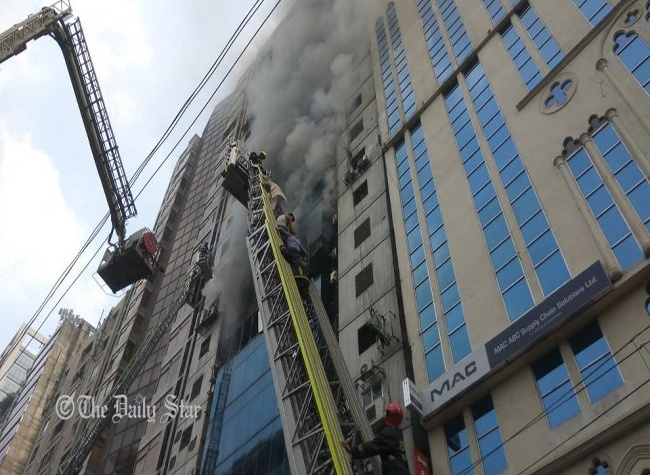Smoke: (245, 61, 339, 153), (278, 11, 384, 72), (218, 217, 257, 355)
